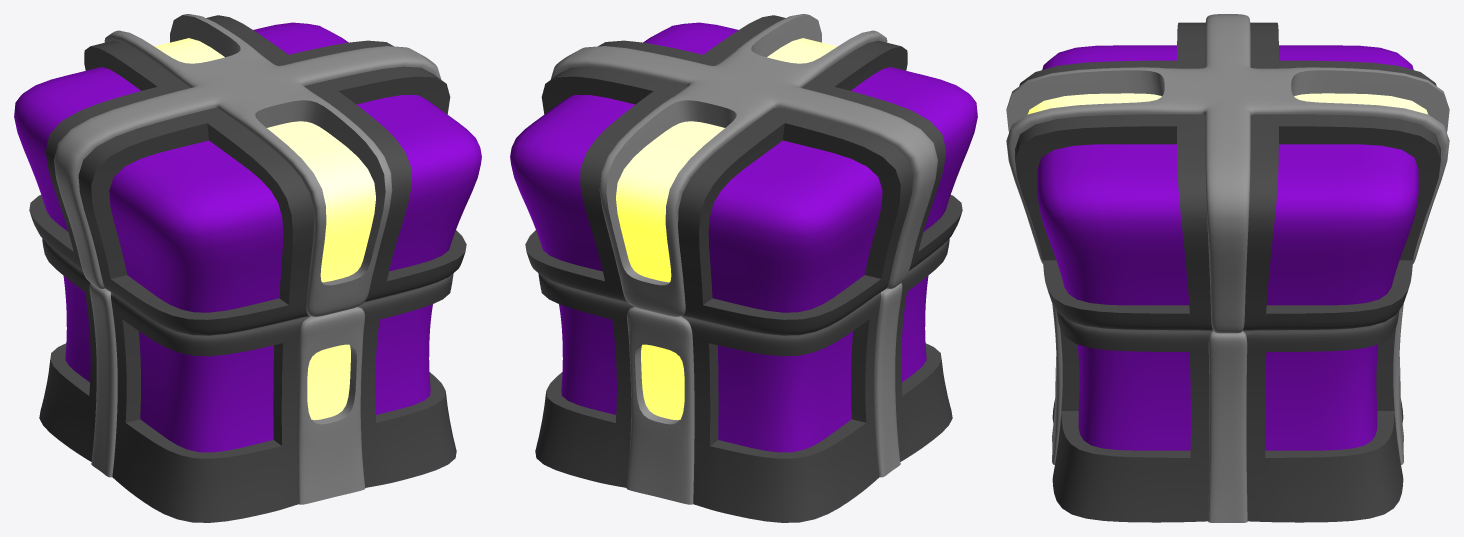
Rendered from PH_mesh_Lootbox.fbx.
The picture shows the model from 3 angles, left to right: view 1: azimuth 30°, elevation 25°; view 2: azimuth 150°, elevation 25°; view 3: azimuth 270°, elevation 25°; orthographic projection. The views are drawn at different scales.
Parts seen in each view (by area): view 1: Cube; view 2: Cube; view 3: Cube.
Boxes of the visible parts, x1,y1,x2,y2 form: Cube: (14,14,481,522); Cube: (510,14,977,522); Cube: (1006,14,1449,522).
Size of the model in its own units: 194 by 175 by 194.
